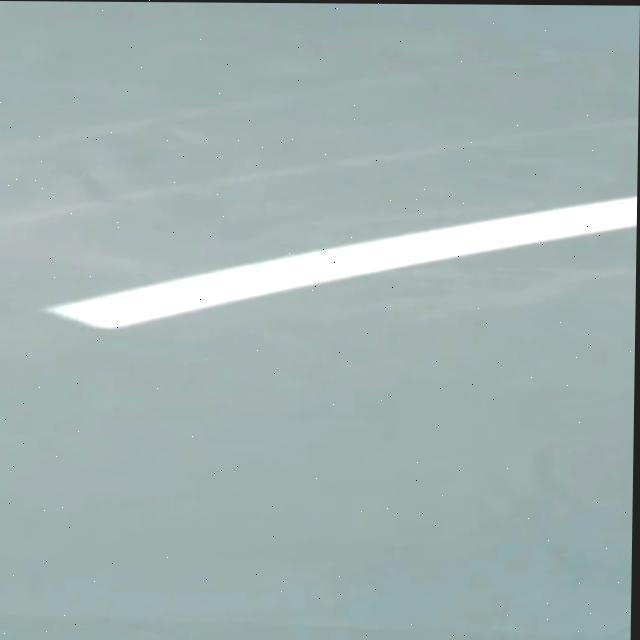center: (46, 197, 637, 327)
